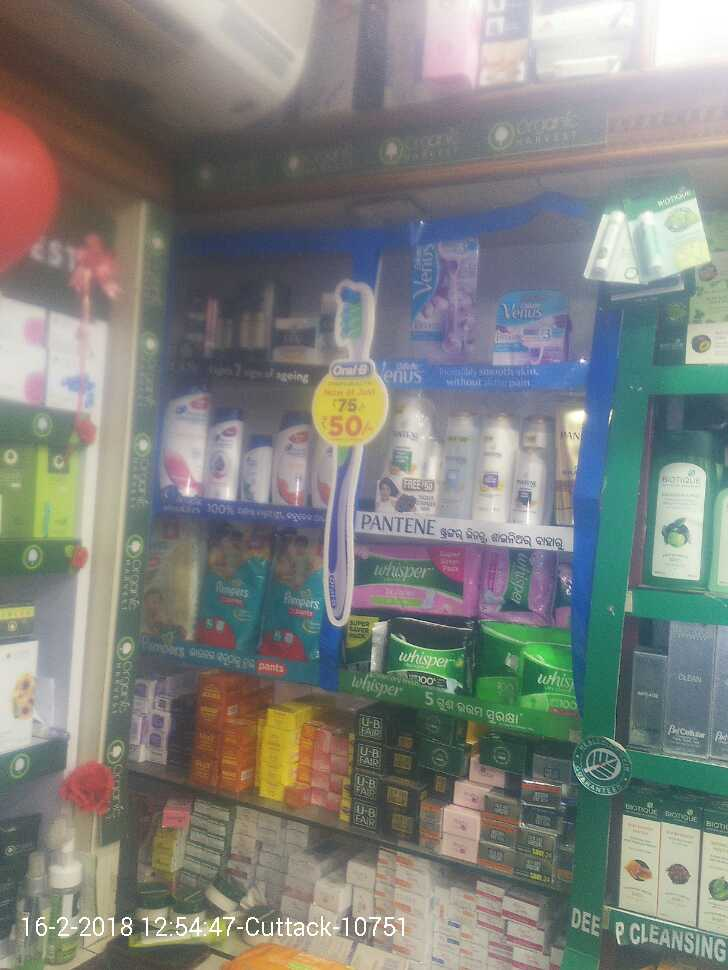venus: (414, 240, 476, 360), (494, 287, 569, 364)
